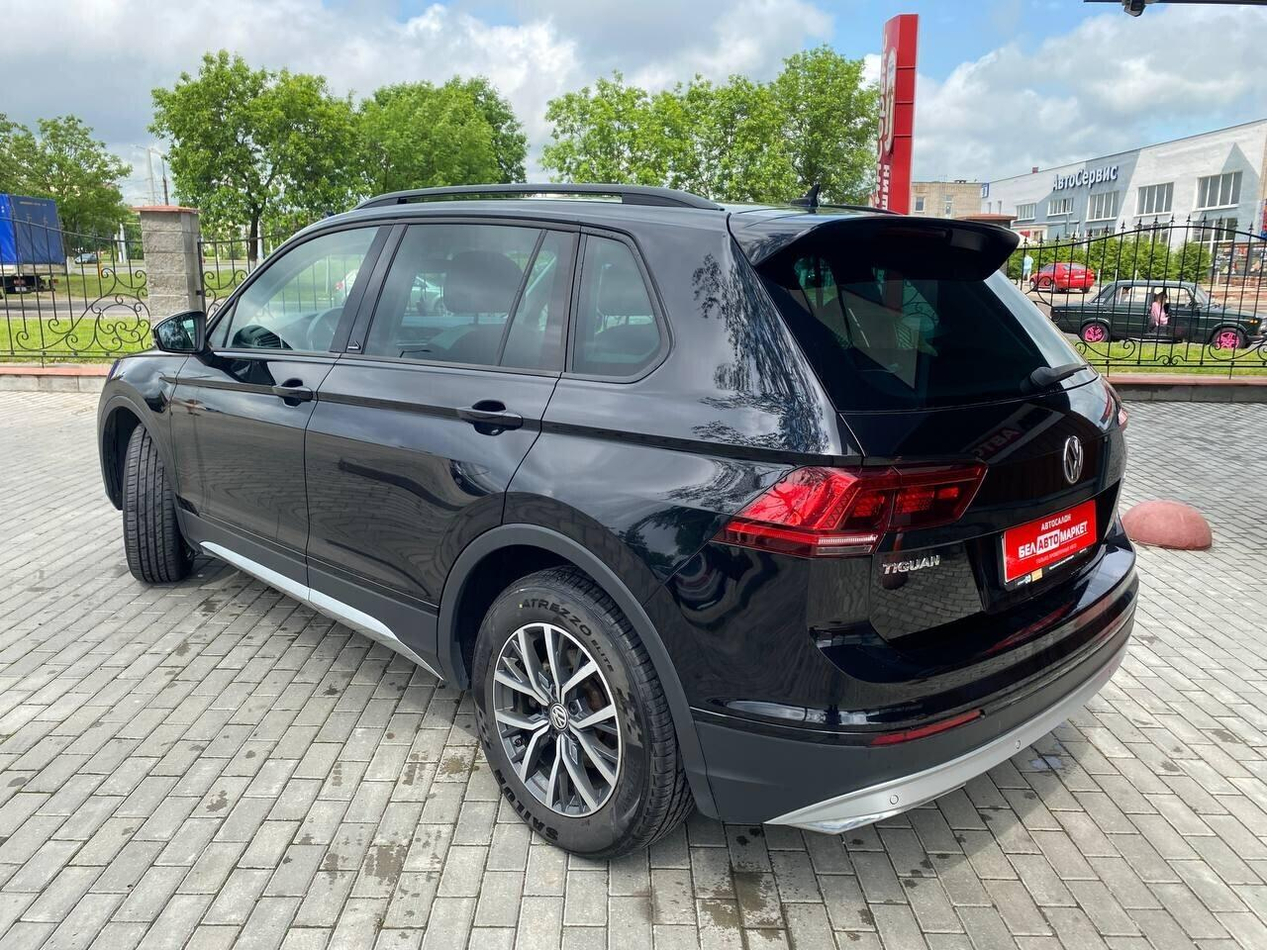Tiguan_2016-2021: (90, 205, 1151, 872)
